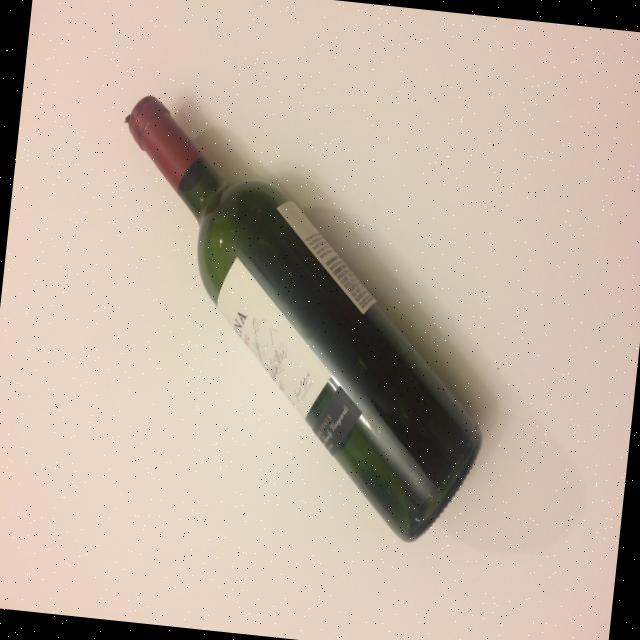glass: (93, 95, 502, 542)
